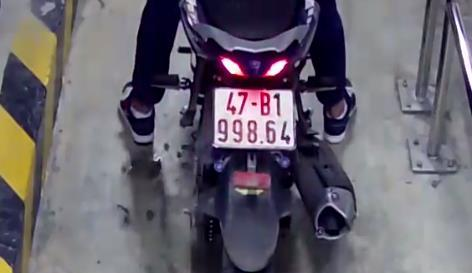lisence: (211, 85, 298, 150)
